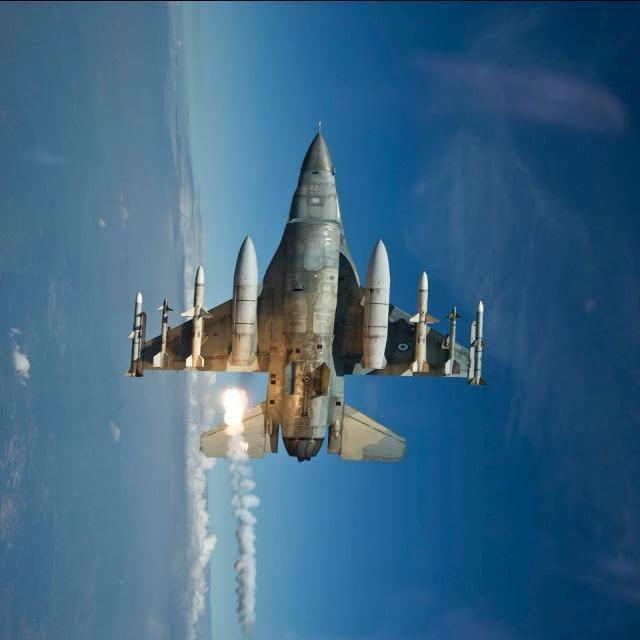missile: (364, 239, 397, 375), (231, 236, 260, 366), (413, 272, 438, 376), (190, 268, 210, 377), (472, 302, 494, 386), (130, 291, 149, 369), (448, 303, 460, 379), (159, 304, 172, 366)
